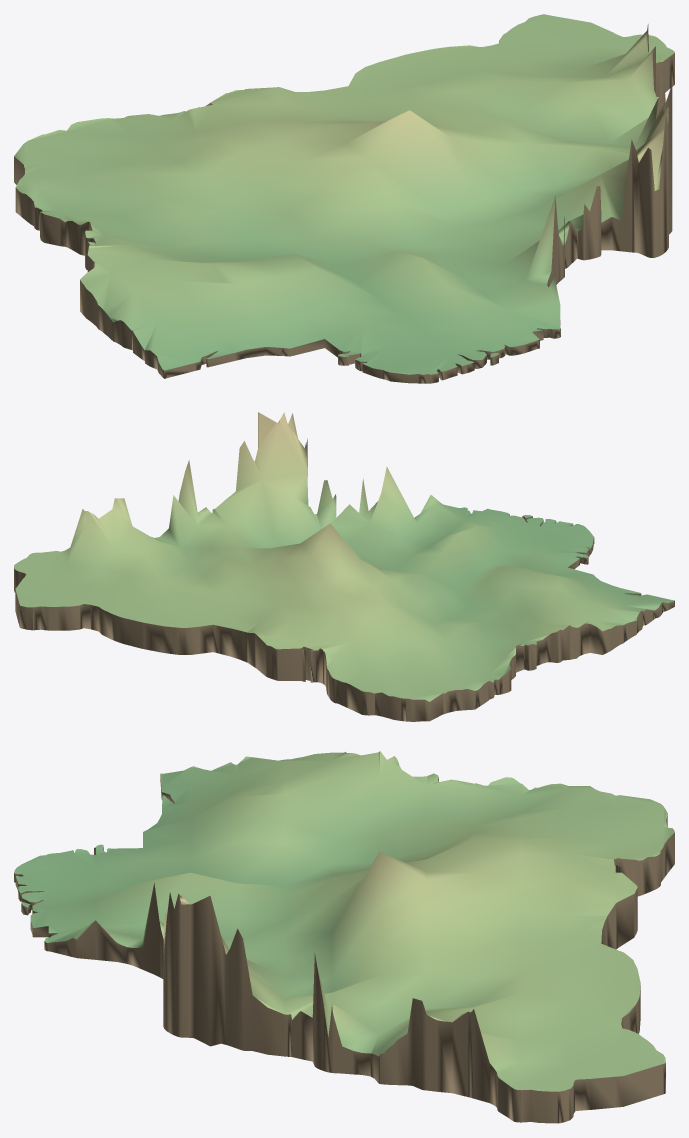
File: NGA.glb
3 views of the same model, one above another, from view 1: azimuth 30°, elevation 25°; view 2: azimuth 150°, elevation 25°; view 3: azimuth 270°, elevation 25° (orthographic). The views are drawn at different scales.
Visible parts, largest first — view 1: NGA; view 2: NGA; view 3: NGA.
Part boxes in pixels (left/top/right/bottom): NGA: left=14, top=14, right=674, bottom=383; NGA: left=14, top=412, right=674, bottom=721; NGA: left=14, top=751, right=674, bottom=1123.
Size of the model in its own units: 1.64 by 0.338 by 1.34.
